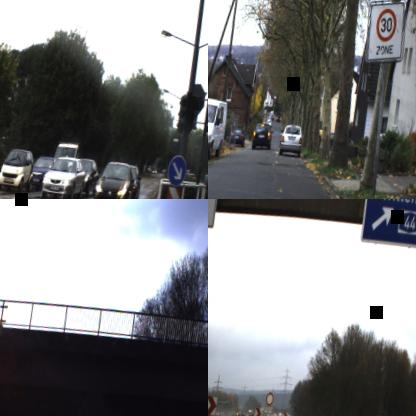keep right: (165, 153, 188, 187)
no traffic both ways: (264, 391, 275, 406)
speed limit 30: (372, 6, 398, 43)
